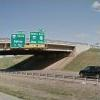Bridge: (2, 24, 78, 64)
